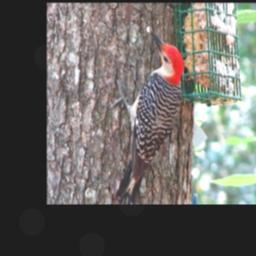Woodpecker: (106, 26, 183, 202)
